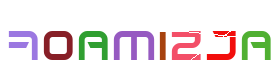7: (0, 0, 80, 80)
A: (94, 0, 174, 80), (184, 0, 264, 80)
I: (128, 0, 208, 80)
J: (139, 0, 219, 80)
M: (99, 0, 179, 80)
O: (42, 0, 122, 80)
Z: (134, 0, 214, 80)
